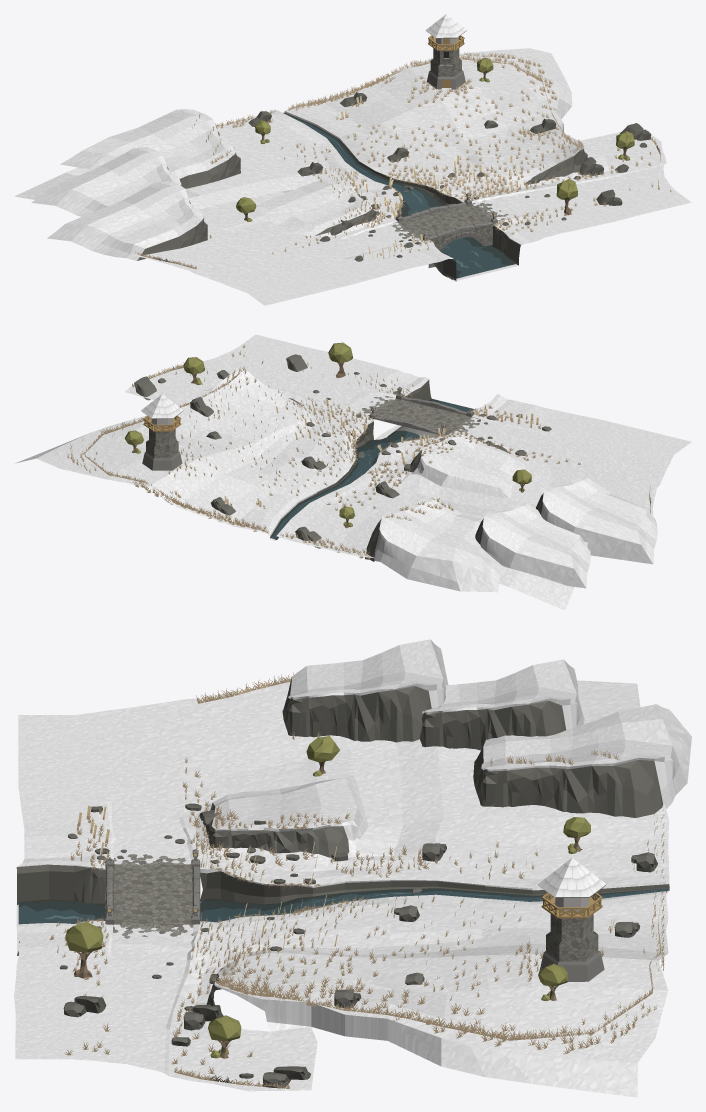
File: plainsDio.fbx
The picture shows the model from 3 angles, top to bottom: view 1: azimuth 30°, elevation 25°; view 2: azimuth 150°, elevation 25°; view 3: azimuth 270°, elevation 25°; orthographic projection. The views are drawn at different scales.
Parts seen in each view (by area): view 1: plainsDioGround, plainsProps, plainsDioGrass, plainsDioBridge, plainsDioRiver, plainsDioGrassTile; view 2: plainsDioGround, plainsProps, plainsDioGrass, plainsDioBridge, plainsDioRiver, plainsDioGrassTile; view 3: plainsDioGround, plainsProps, plainsDioGrass, plainsDioBridge, plainsDioRiver, plainsDioGrassTile.
Part boxes in pixels (x1,y1,x2,y2): plainsDioGround: (14, 48, 691, 305); plainsProps: (31, 14, 651, 261); plainsDioGrass: (192, 52, 671, 258); plainsDioBridge: (391, 193, 508, 267); plainsDioRiver: (283, 112, 517, 279); plainsDioGrassTile: (135, 55, 660, 269); plainsDioGround: (15, 334, 691, 610); plainsProps: (124, 342, 657, 592); plainsDioGrass: (67, 344, 580, 559); plainsDioBridge: (358, 387, 480, 438); plainsDioRiver: (270, 398, 474, 539); plainsDioGrassTile: (83, 362, 651, 533); plainsDioGround: (14, 679, 669, 1097); plainsProps: (60, 639, 691, 1088); plainsDioGrass: (49, 731, 664, 1073); plainsDioBridge: (105, 849, 200, 938); plainsDioRiver: (18, 888, 668, 924); plainsDioGrassTile: (174, 672, 661, 1088).
Size of the model in its own units: 99.61 by 19.01 by 62.66.
11 materials, 11 textured.
